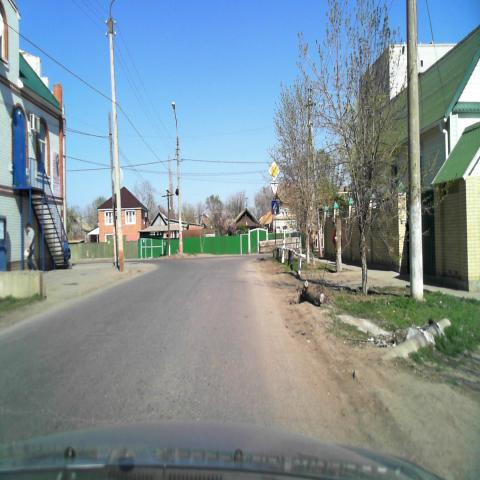2_4: (269, 182, 279, 196)
